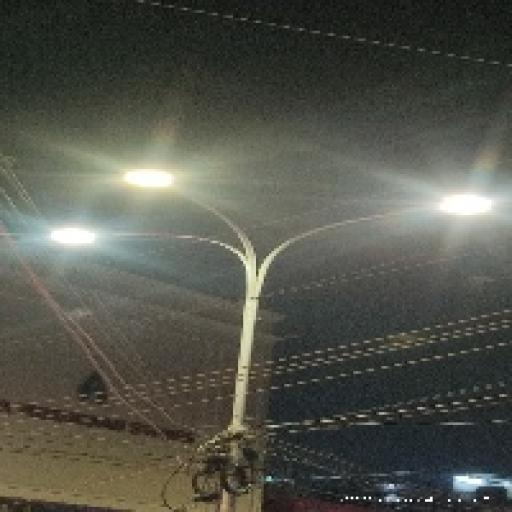Working: (425, 186, 502, 230), (114, 157, 185, 204), (38, 220, 99, 262)
